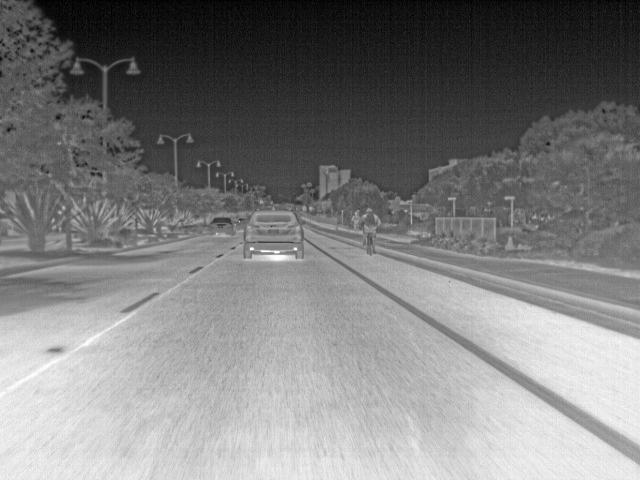car: (244, 208, 306, 260), (206, 217, 234, 236), (233, 218, 247, 229)
person: (360, 207, 382, 233), (349, 210, 358, 232)
